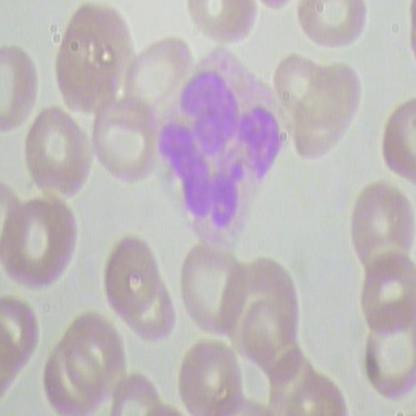RBC: (294, 57, 368, 166), (176, 233, 251, 340), (346, 176, 416, 278), (23, 108, 97, 204), (94, 226, 168, 322), (92, 96, 158, 192), (176, 335, 252, 415), (356, 316, 416, 407), (355, 252, 415, 338)
WBC: (148, 40, 297, 249)
